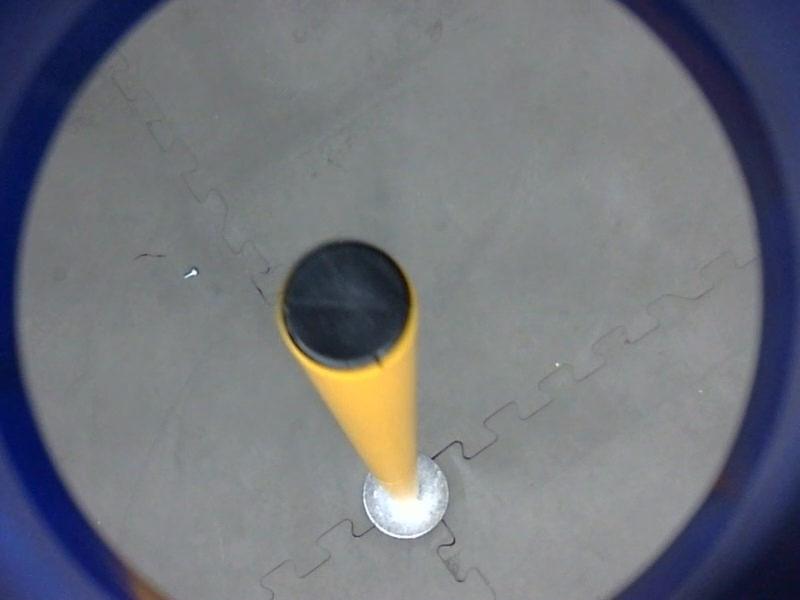tip: (268, 234, 424, 382)
